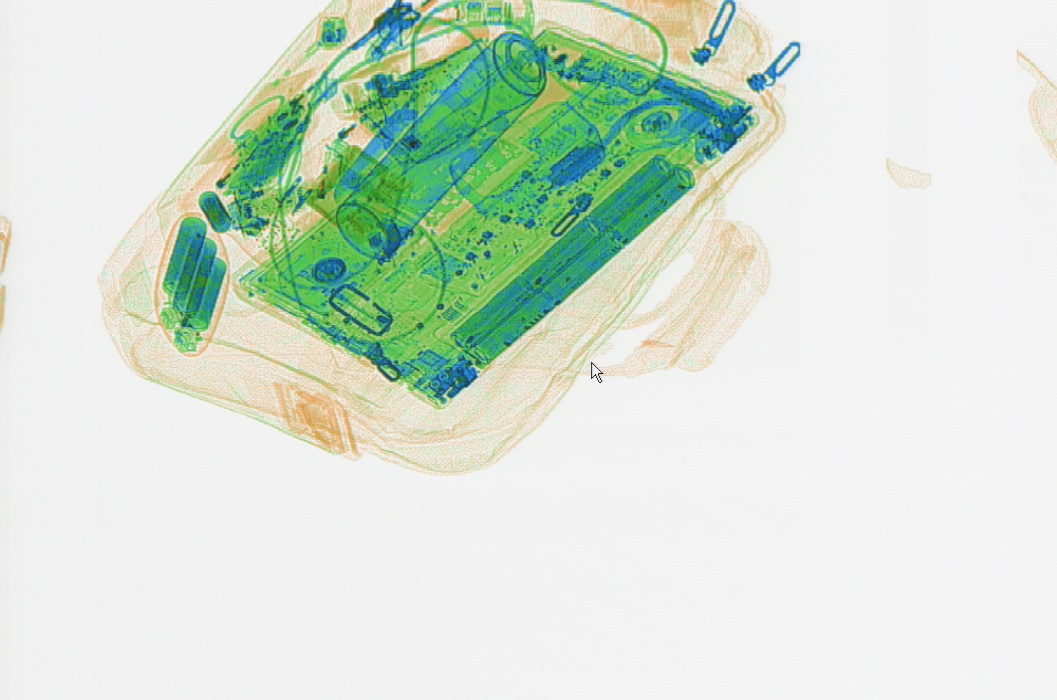lighter: (305, 134, 353, 278)
powerbank: (152, 208, 231, 356)
pressure: (332, 26, 549, 262)
